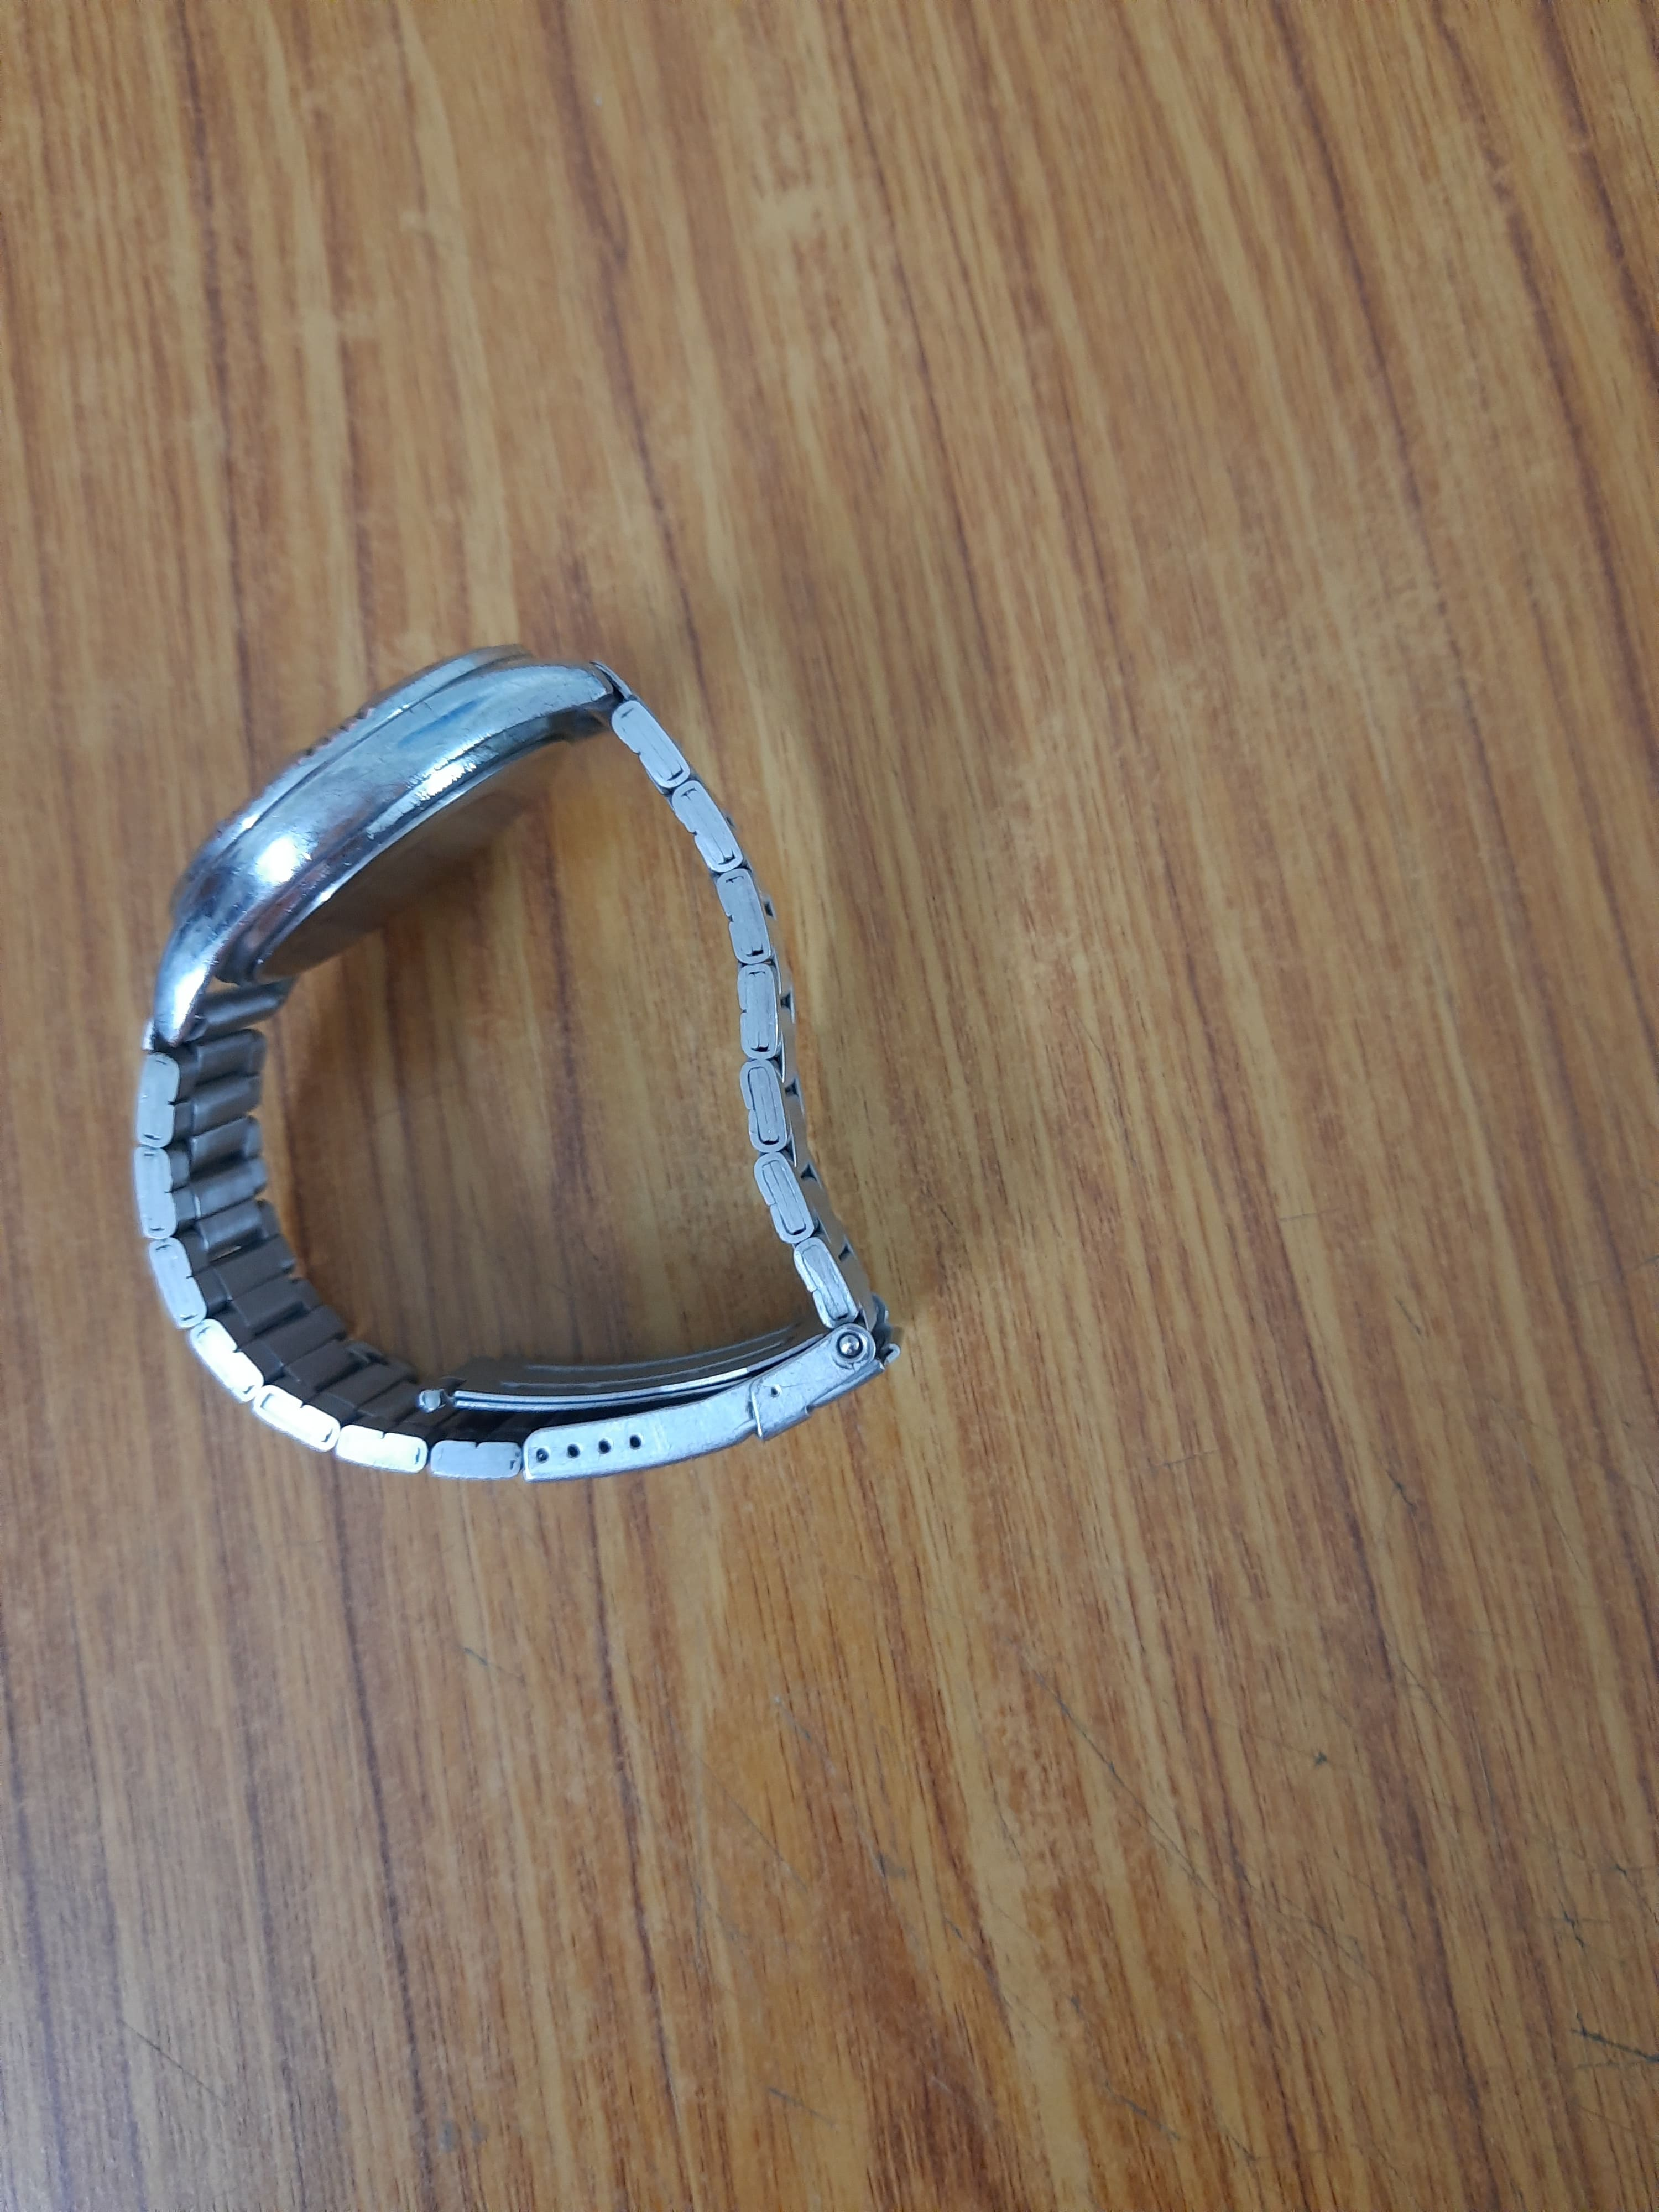Vikash's Watch: (122, 636, 911, 1484)
